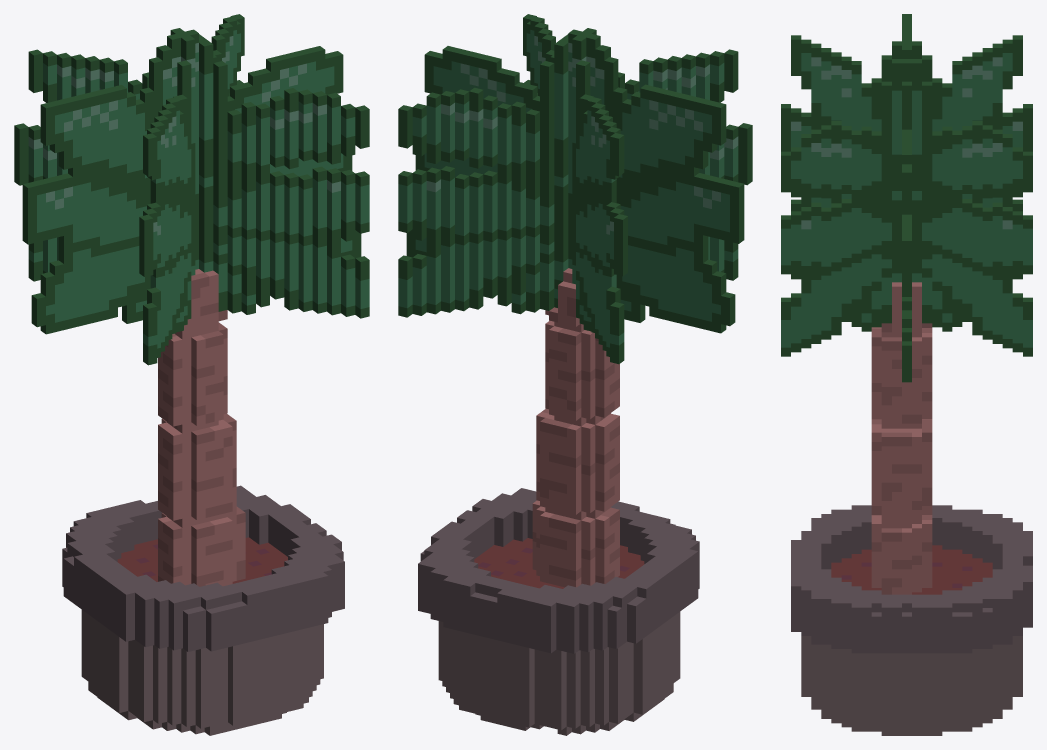
File: house-plant.obj
3 renders of one model, left to right at view 1: azimuth 30°, elevation 25°; view 2: azimuth 150°, elevation 25°; view 3: azimuth 270°, elevation 25°, orthographic. The views are drawn at different scales.
Size of the model in its own units: 3.7 by 7 by 2.5.
Materials: 1 (1 with a texture image).
